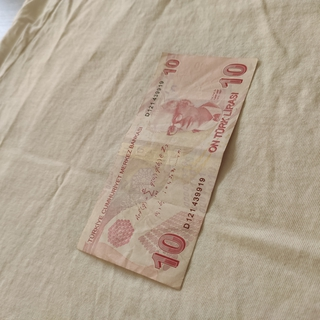10TLBack: (75, 52, 257, 291)
